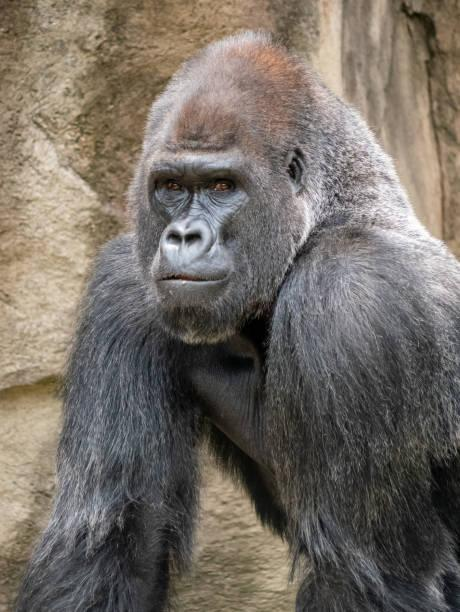gorille_Autres: (35, 22, 460, 612)
